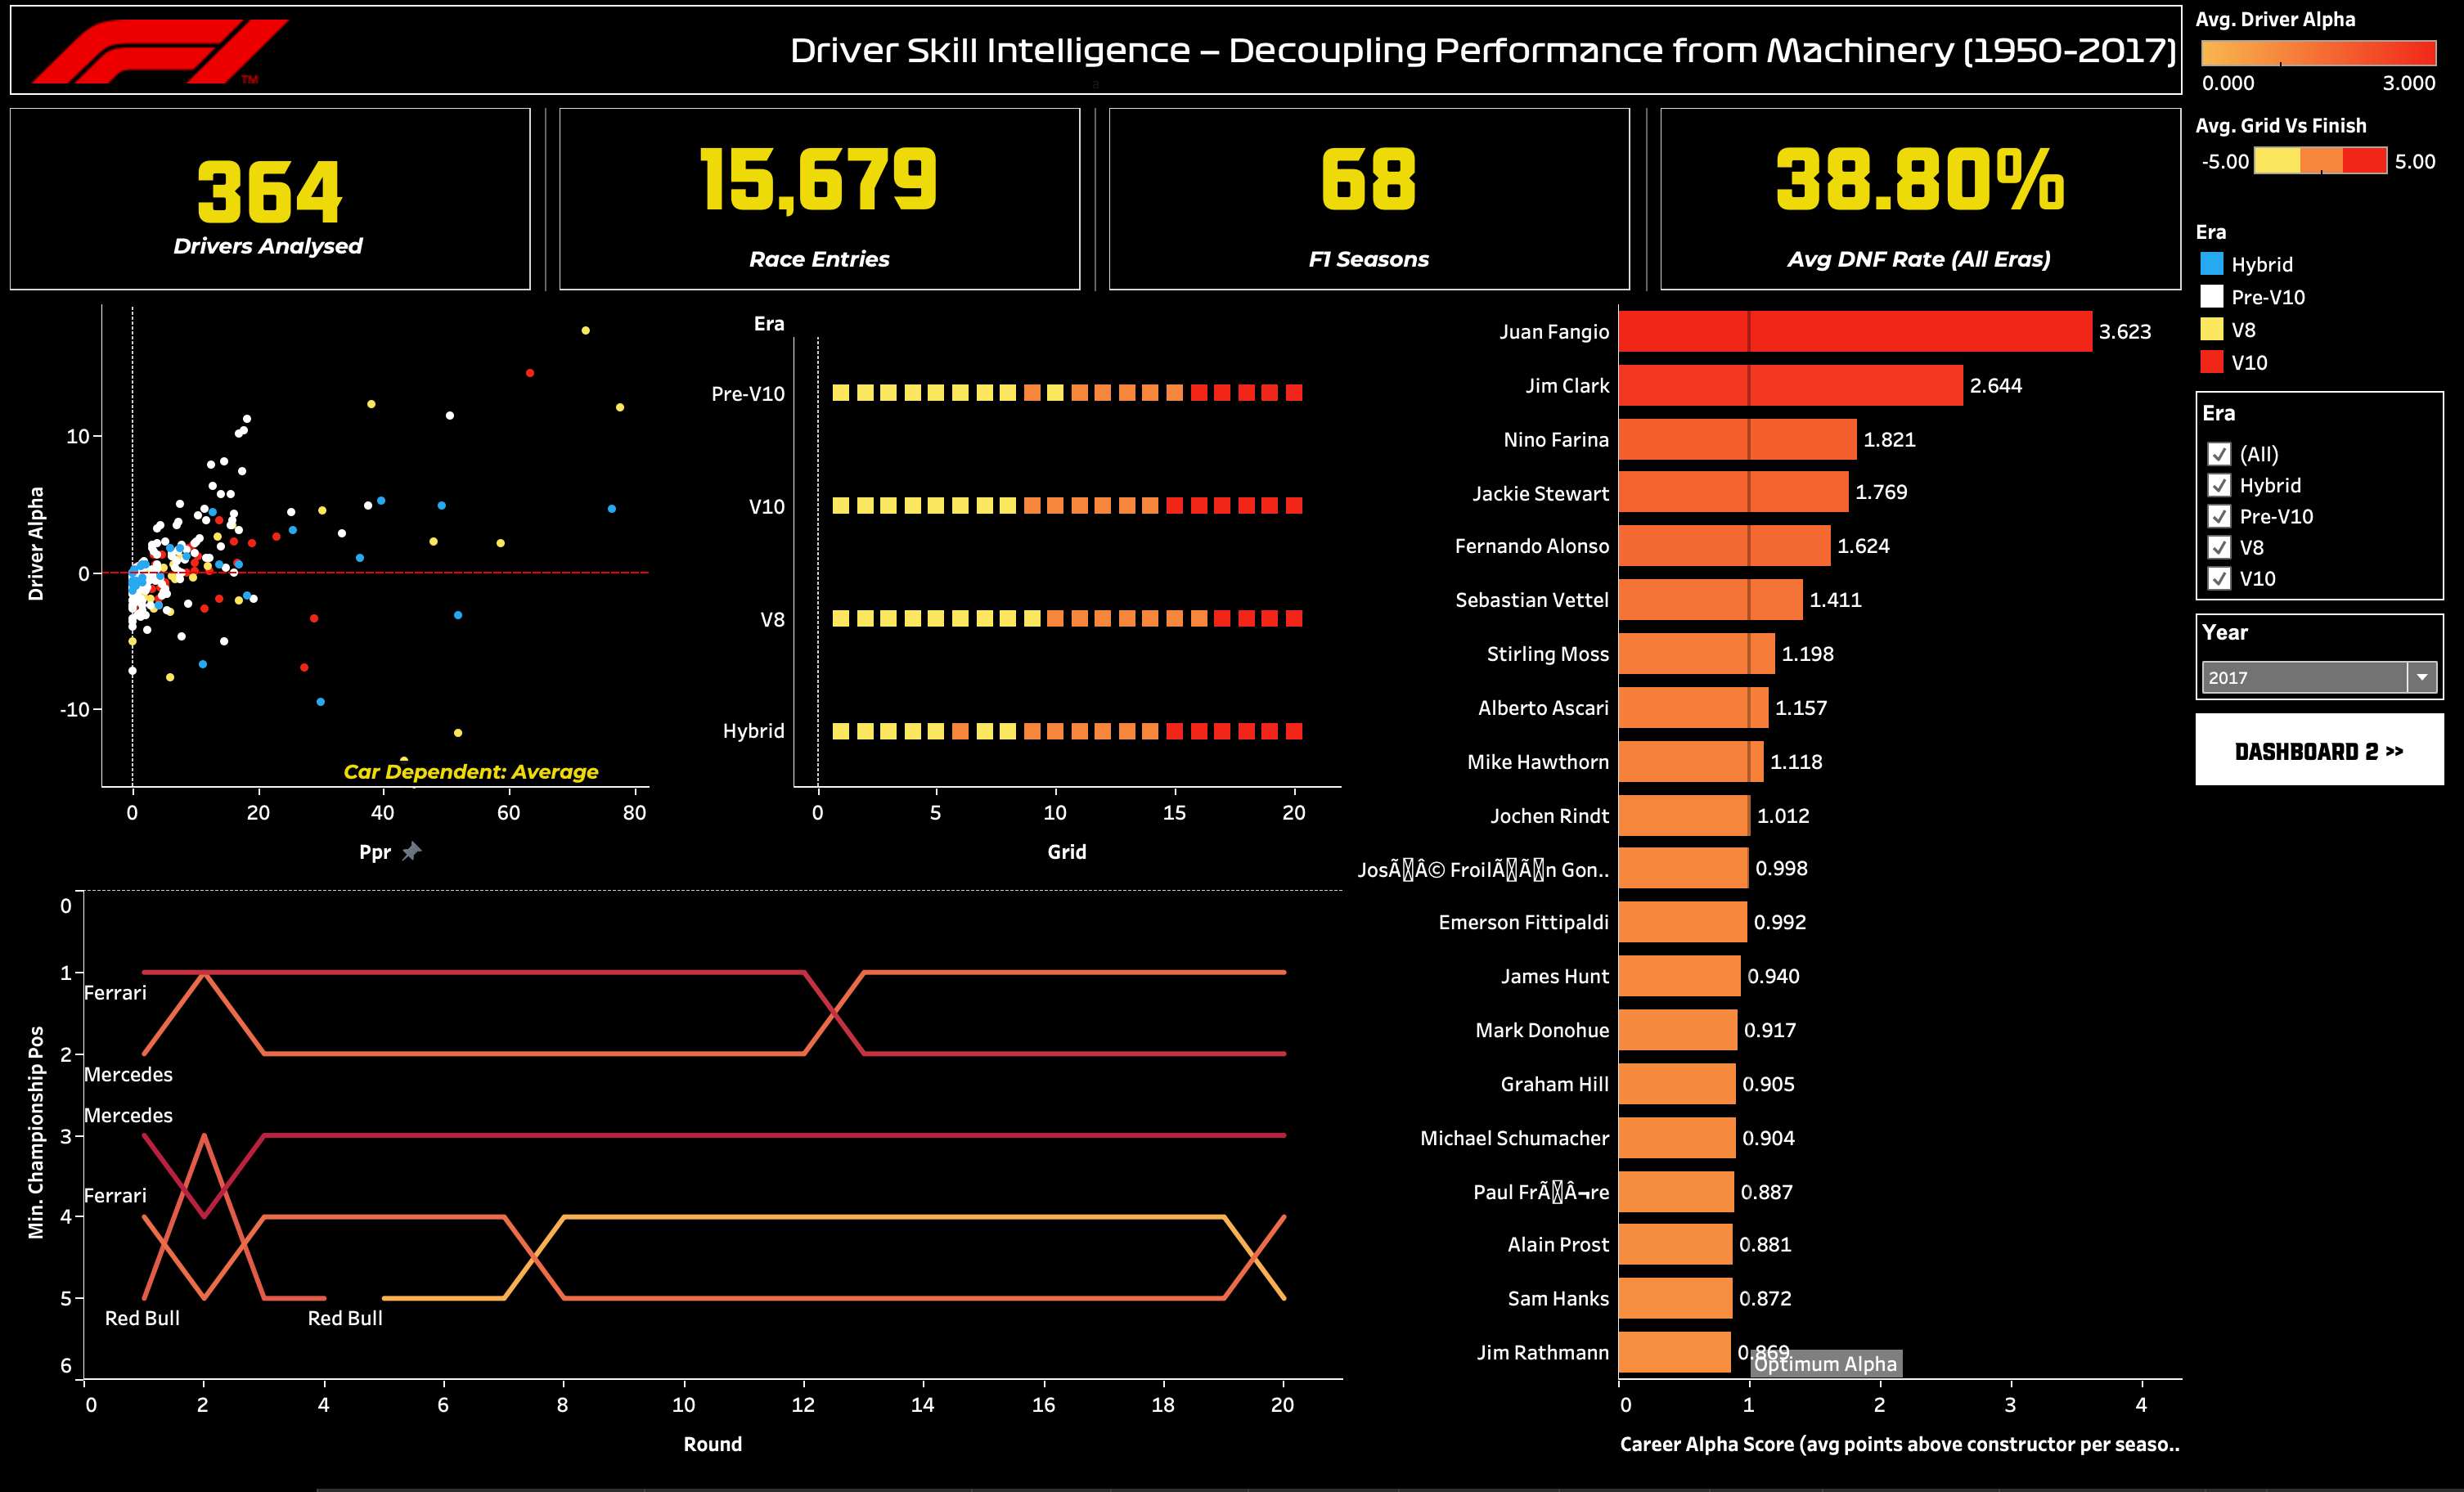

Layout of this report page (visuals, bound fields, positions):
{"tool":"tableau","page":{"name":"Driver Skill Intelligence — Decoupling Performance from Machinery (1950–2017)","canvas":[1000,1000],"units":"permille","ordinal":2},"visuals":[{"type":"image","param":"Image/FWONK_BIG.png","box":[13.8,1.2,109.9,86.9]},{"type":"title","box":[6.2,9.3,864.7,73.5]},{"type":"legend","title":"Alpha Bar","param":"[federated.0ag0pla009q59d1f65p4l1sclavo].[avg:driver_alpha:qk]","box":[870.9,9.3,123,75.8]},{"type":"worksheet","title":"KPI - Drivers","mark":"Automatic","box":[6.2,82.8,211,140]},{"type":"blank","box":[217.1,82.8,6.9,140]},{"type":"worksheet","title":"KPI - Entries","mark":"Automatic","box":[224.1,82.8,211,140]},{"type":"blank","box":[435.1,82.8,6.9,140]},{"type":"worksheet","title":"KPI - Seasons","mark":"Automatic","box":[442,82.8,211,140]},{"type":"blank","box":[653,82.8,6.9,140]},{"type":"worksheet","title":"KPI - DNF Rate","mark":"Automatic","box":[659.9,82.8,211,140]},{"type":"legend","title":"Grid Delta Heatmap","param":"[federated.15jeti21e17v94167a3qf1uau83o].[avg:grid_vs_finish:qk]","box":[870.9,85.2,123,75.8]},{"type":"legend","title":"Alpha Scatter","param":"[federated.0ag0pla009q59d1f65p4l1sclavo].[none:era:nk]","box":[870.9,161,123,123.7]},{"type":"worksheet","title":"Alpha Scatter","mark":"Automatic","rows":["driver_alpha"],"cols":["ppr"],"box":[6.2,222.9,257,417.7]},{"type":"worksheet","title":"Grid Delta Heatmap","mark":"Square","rows":["era"],"cols":["grid"],"box":[263.1,222.9,275.4,417.7]},{"type":"worksheet","title":"Alpha Bar","mark":"Automatic","rows":["full_name"],"cols":["driver_alpha"],"box":[538.6,222.9,332.3,767.8]},{"type":"filter","title":"Alpha Bar","param":"[federated.0ag0pla009q59d1f65p4l1sclavo].[none:era:nk]","box":[870.9,284.7,123,158.7]},{"type":"filter","title":"Championship Trend","param":"[federated.0k13jq615u2zdk1cz5wwg0z6eaol].[none:year:ok]","box":[870.9,443.4,123,71.2]},{"type":"dashboard-object","box":[870.9,514.5,123,60.7]},{"type":"worksheet","title":"Championship Trend","mark":"Line","rows":["championship_pos"],"cols":["round"],"box":[6.2,640.6,532.4,350.1]}]}

Visuals, with their boxes on the dashboard's canvas, which has no fixed pixel size, in thousandths of its width and height (x1, y1, x2, y2). These are canvas units, not pixel positions in the 2464x1492 screenshot, which may show the page scaled, cropped or inside an application window:
image: {"left": 14, "top": 1, "right": 124, "bottom": 88}
title: {"left": 6, "top": 9, "right": 871, "bottom": 83}
"Alpha Bar" legend: {"left": 871, "top": 9, "right": 994, "bottom": 85}
"KPI - Drivers" worksheet: {"left": 6, "top": 83, "right": 217, "bottom": 223}
blank: {"left": 217, "top": 83, "right": 224, "bottom": 223}
"KPI - Entries" worksheet: {"left": 224, "top": 83, "right": 435, "bottom": 223}
blank: {"left": 435, "top": 83, "right": 442, "bottom": 223}
"KPI - Seasons" worksheet: {"left": 442, "top": 83, "right": 653, "bottom": 223}
blank: {"left": 653, "top": 83, "right": 660, "bottom": 223}
"KPI - DNF Rate" worksheet: {"left": 660, "top": 83, "right": 871, "bottom": 223}
"Grid Delta Heatmap" legend: {"left": 871, "top": 85, "right": 994, "bottom": 161}
"Alpha Scatter" legend: {"left": 871, "top": 161, "right": 994, "bottom": 285}
"Alpha Scatter" worksheet: {"left": 6, "top": 223, "right": 263, "bottom": 641}
"Grid Delta Heatmap" worksheet (Square marks): {"left": 263, "top": 223, "right": 538, "bottom": 641}
"Alpha Bar" worksheet: {"left": 539, "top": 223, "right": 871, "bottom": 991}
"Alpha Bar" filter: {"left": 871, "top": 285, "right": 994, "bottom": 443}
"Championship Trend" filter: {"left": 871, "top": 443, "right": 994, "bottom": 515}
dashboard-object: {"left": 871, "top": 514, "right": 994, "bottom": 575}
"Championship Trend" worksheet (Line marks): {"left": 6, "top": 641, "right": 539, "bottom": 991}
